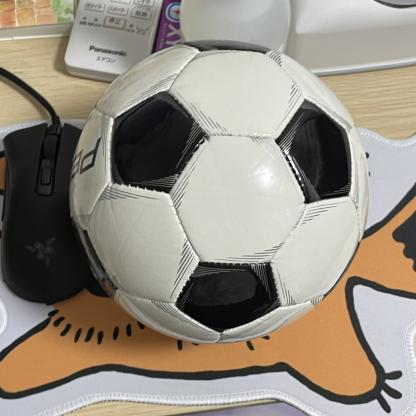ball: (68, 40, 366, 345)
